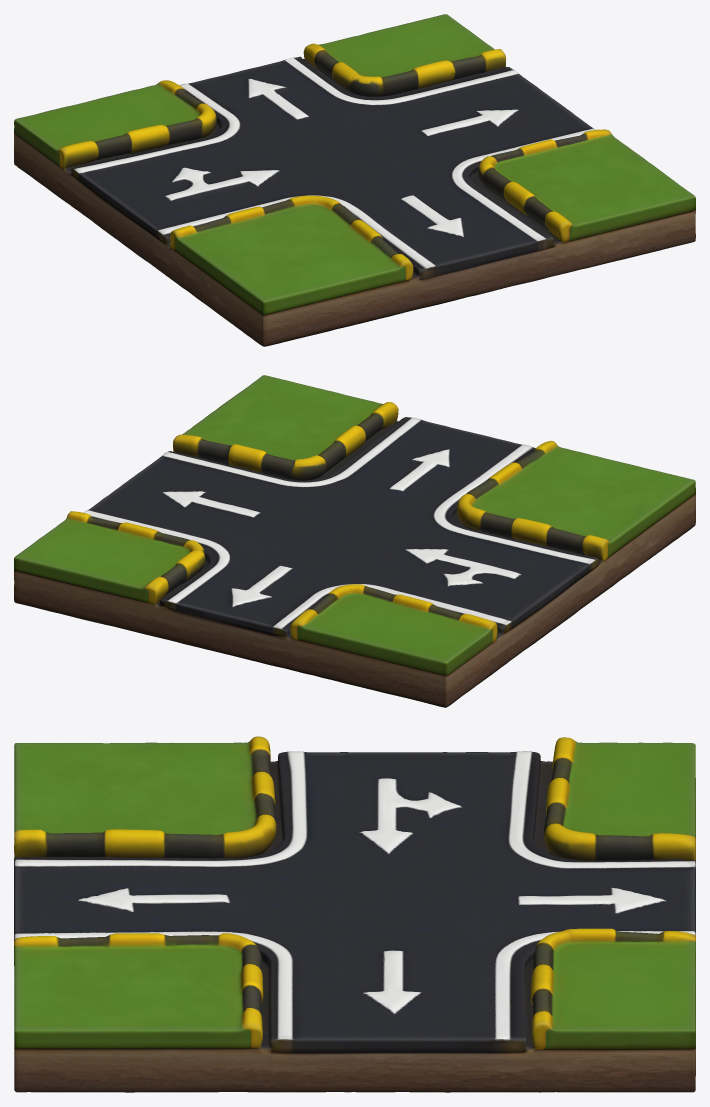
File: isometric_road_tile_3d_model.fbx
The picture shows the model from 3 angles, top to bottom: view 1: azimuth 30°, elevation 25°; view 2: azimuth 150°, elevation 25°; view 3: azimuth 270°, elevation 25°; orthographic projection. The views are drawn at different scales.
Parts seen in each view (by area): view 1: tripo_node_a4cbb735; view 2: tripo_node_a4cbb735; view 3: tripo_node_a4cbb735.
Boxes of the visible parts, box(x1,y1,x2,y2) form: tripo_node_a4cbb735: box(14, 14, 695, 346); tripo_node_a4cbb735: box(14, 375, 695, 707); tripo_node_a4cbb735: box(14, 736, 695, 1092).
Bounding box in the file's own units: 0.9812 × 0.1143 × 0.9803.
